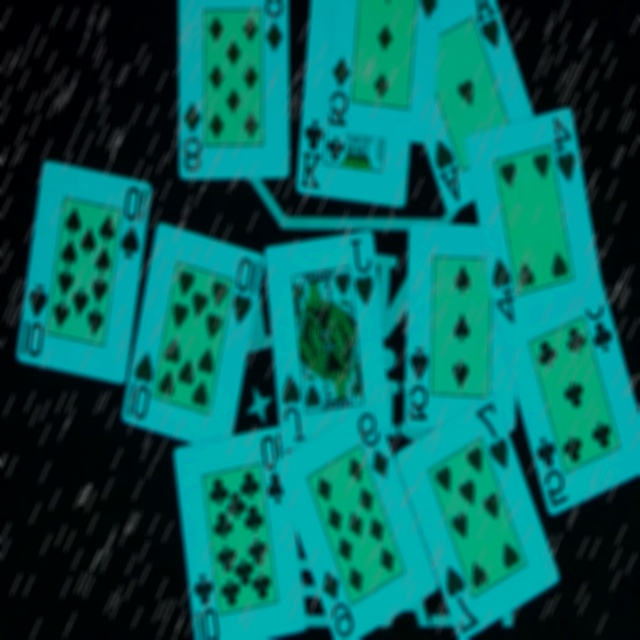10C: (256, 430, 287, 511), (187, 566, 220, 640)
10H: (227, 252, 264, 333), (122, 348, 157, 428)
10S: (16, 279, 50, 363), (116, 182, 150, 265)
3D: (325, 54, 355, 130), (409, 0, 455, 31)
4H: (483, 251, 522, 335), (546, 108, 584, 191)
5C: (577, 282, 618, 363), (531, 428, 568, 513)
7H: (434, 554, 480, 639)
8D: (179, 101, 206, 173), (259, 0, 289, 60)
9D: (354, 401, 394, 491), (313, 560, 355, 640)
AH: (424, 131, 464, 210), (465, 0, 506, 58)
JH: (275, 371, 307, 447), (348, 237, 377, 313)
KC: (296, 116, 326, 195)
